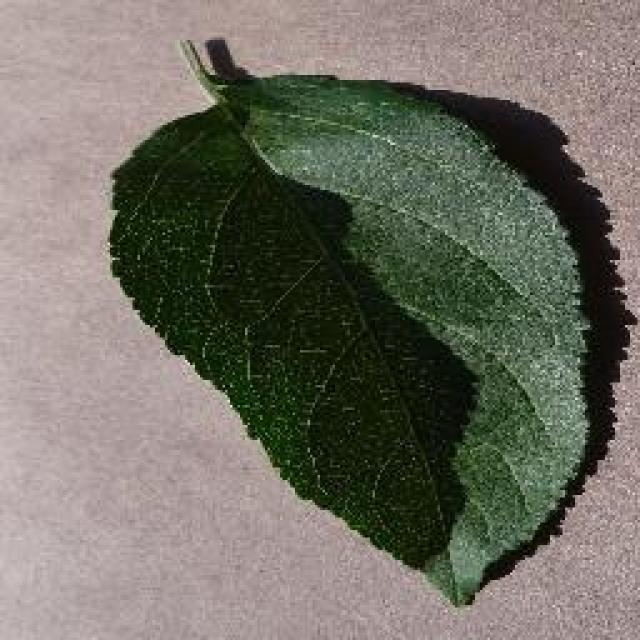apple healthy: (105, 32, 620, 608)
